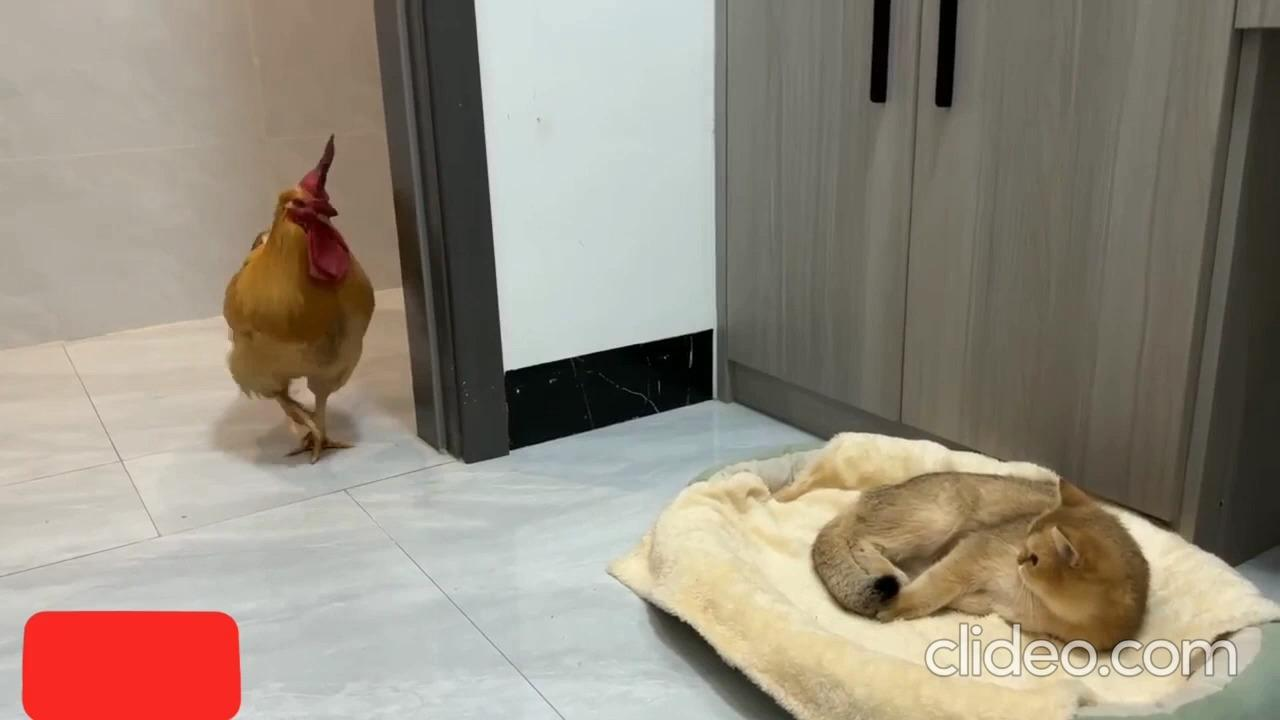Normal: (226, 130, 374, 464)
